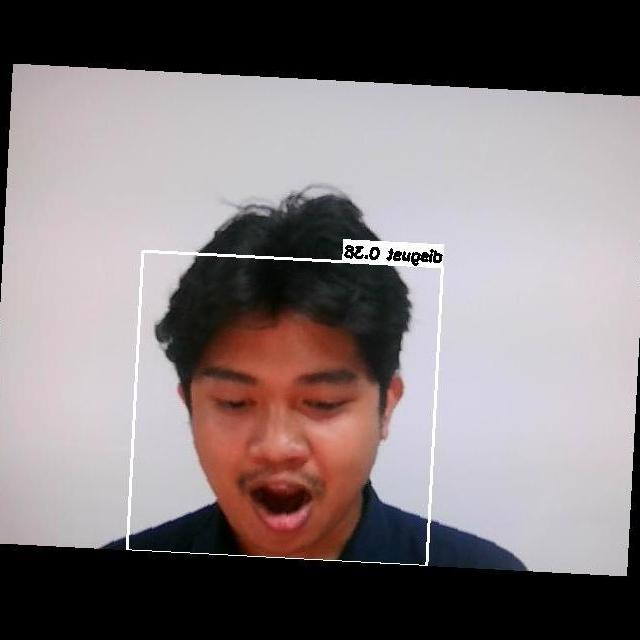Surprised: (174, 347, 376, 530)
